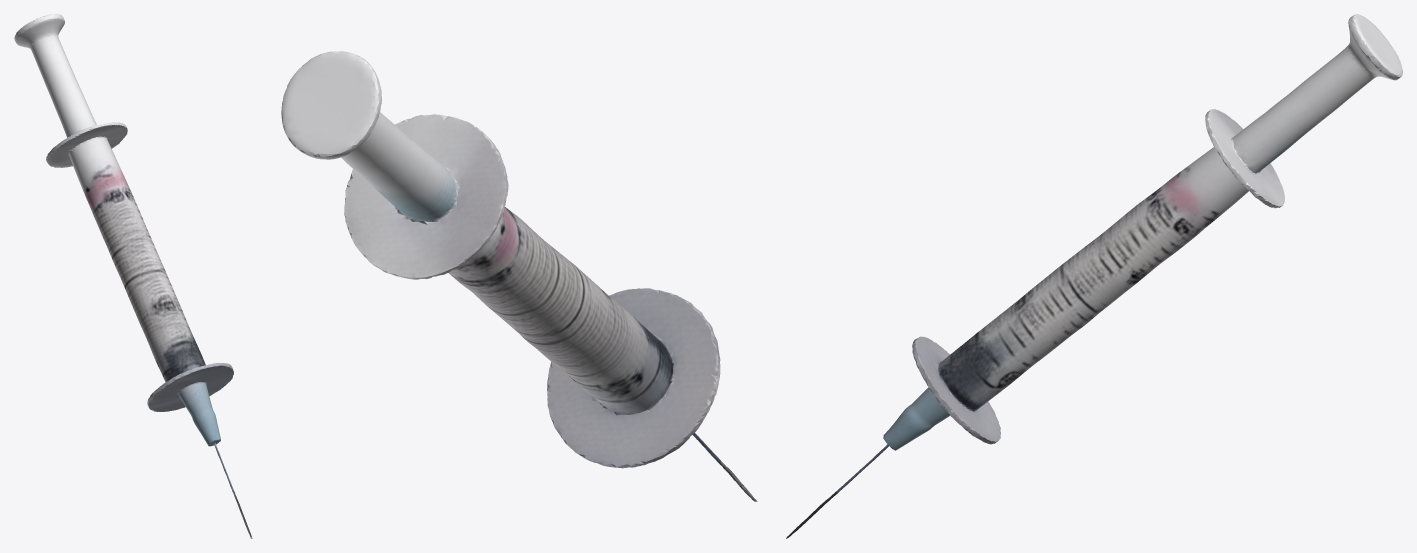
Rendered from syringe.glb.
3 views of the same model, side by side, from view 1: azimuth 30°, elevation 25°; view 2: azimuth 150°, elevation 25°; view 3: azimuth 270°, elevation 25° (orthographic). The views are drawn at different scales.
Visible parts, largest first — view 1: model; view 2: model; view 3: model.
Boxes of the visible parts, x1,y1,x2,y2 form: model: (14,14,252,538); model: (281,51,757,501); model: (786,14,1402,538).
Size of the model in its own units: 0.3962 by 1.77 by 1.9.
Materials: 1 (1 with a texture image).
